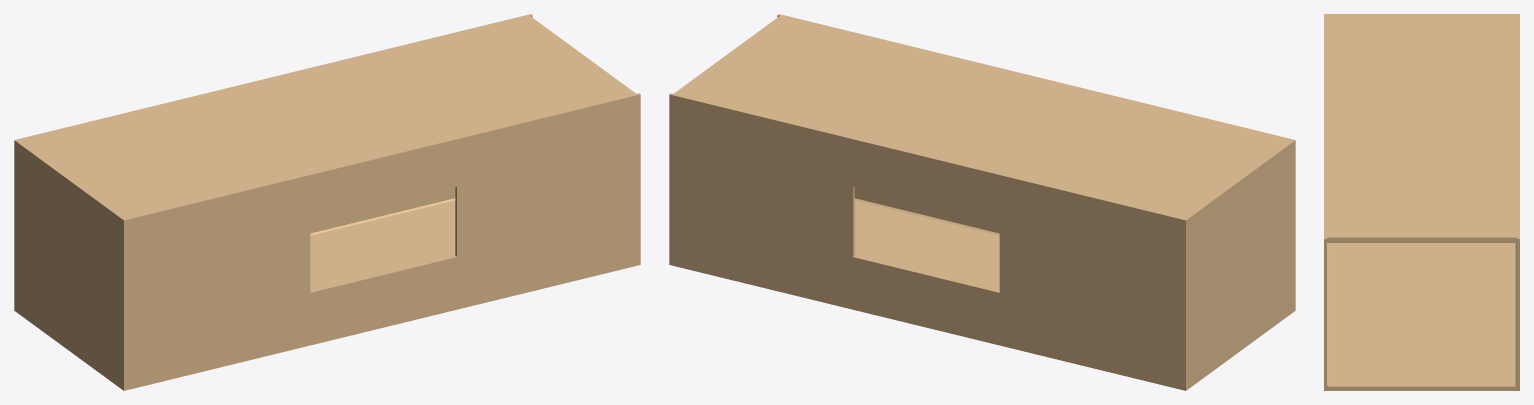
Rendered from Environment Prototype.fbx.
The picture shows the model from 3 angles, left to right: view 1: azimuth 30°, elevation 25°; view 2: azimuth 150°, elevation 25°; view 3: azimuth 270°, elevation 25°; orthographic projection. The views are drawn at different scales.
Parts seen in each view (by area): view 1: Cube; view 2: Cube; view 3: Cube.
Part boxes in pixels (bbox=[...]): Cube: bbox=[14, 14, 640, 390]; Cube: bbox=[669, 14, 1295, 390]; Cube: bbox=[1324, 14, 1519, 390].
Bounding box in the file's own units: 1479 × 467 × 544.
